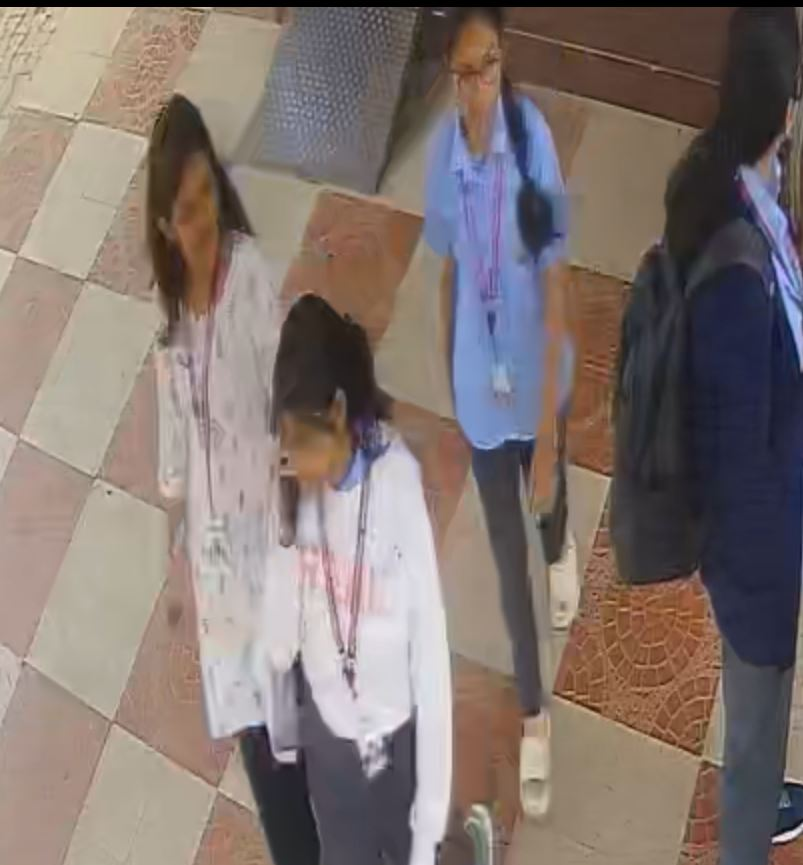intruder: (419, 4, 611, 803), (131, 93, 297, 865), (260, 289, 481, 865)
